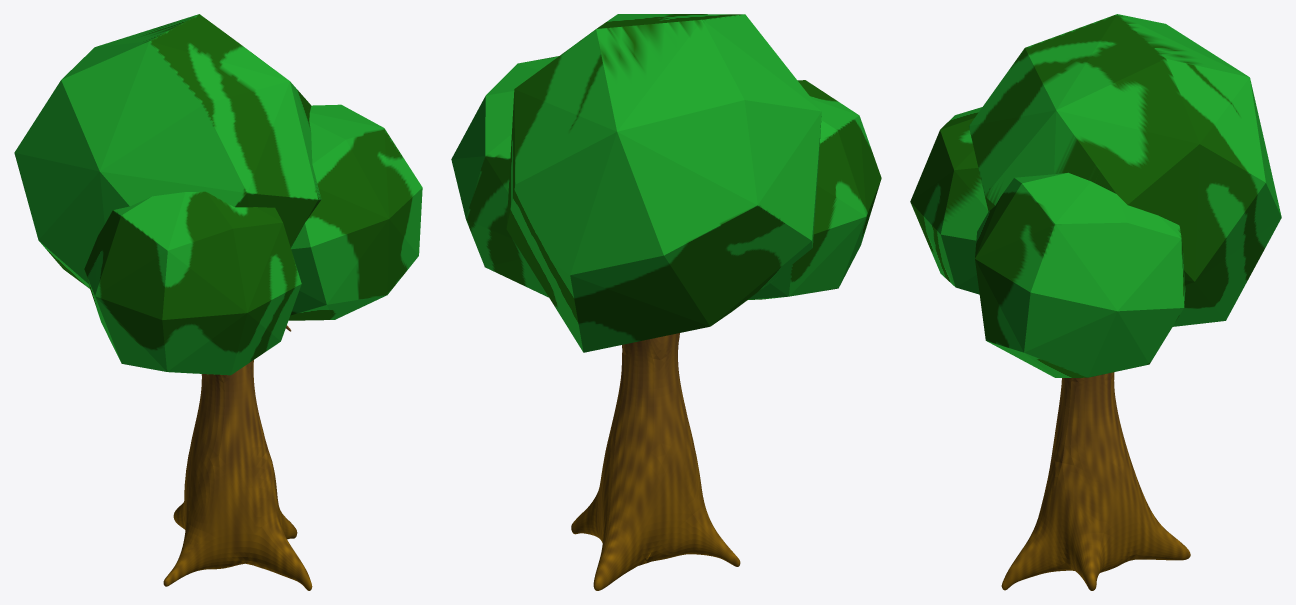
File: Tree1.fbx
3 renders of one model, left to right at view 1: azimuth 30°, elevation 25°; view 2: azimuth 150°, elevation 25°; view 3: azimuth 270°, elevation 25°, orthographic. The views are drawn at different scales.
Visible parts, largest first — view 1: leaves, tree; view 2: leaves, tree; view 3: leaves, tree.
Part boxes in pixels (x1=…): leaves: x1=14, y1=14, x2=422, y2=375; tree: x1=163, y1=325, x2=312, y2=590; leaves: x1=451, y1=14, x2=881, y2=352; tree: x1=571, y1=333, x2=740, y2=590; leaves: x1=910, y1=14, x2=1281, y2=377; tree: x1=1001, y1=372, x2=1190, y2=590.
Size of the model in its own units: 319 by 477 by 305.
2 materials, 2 textured.
